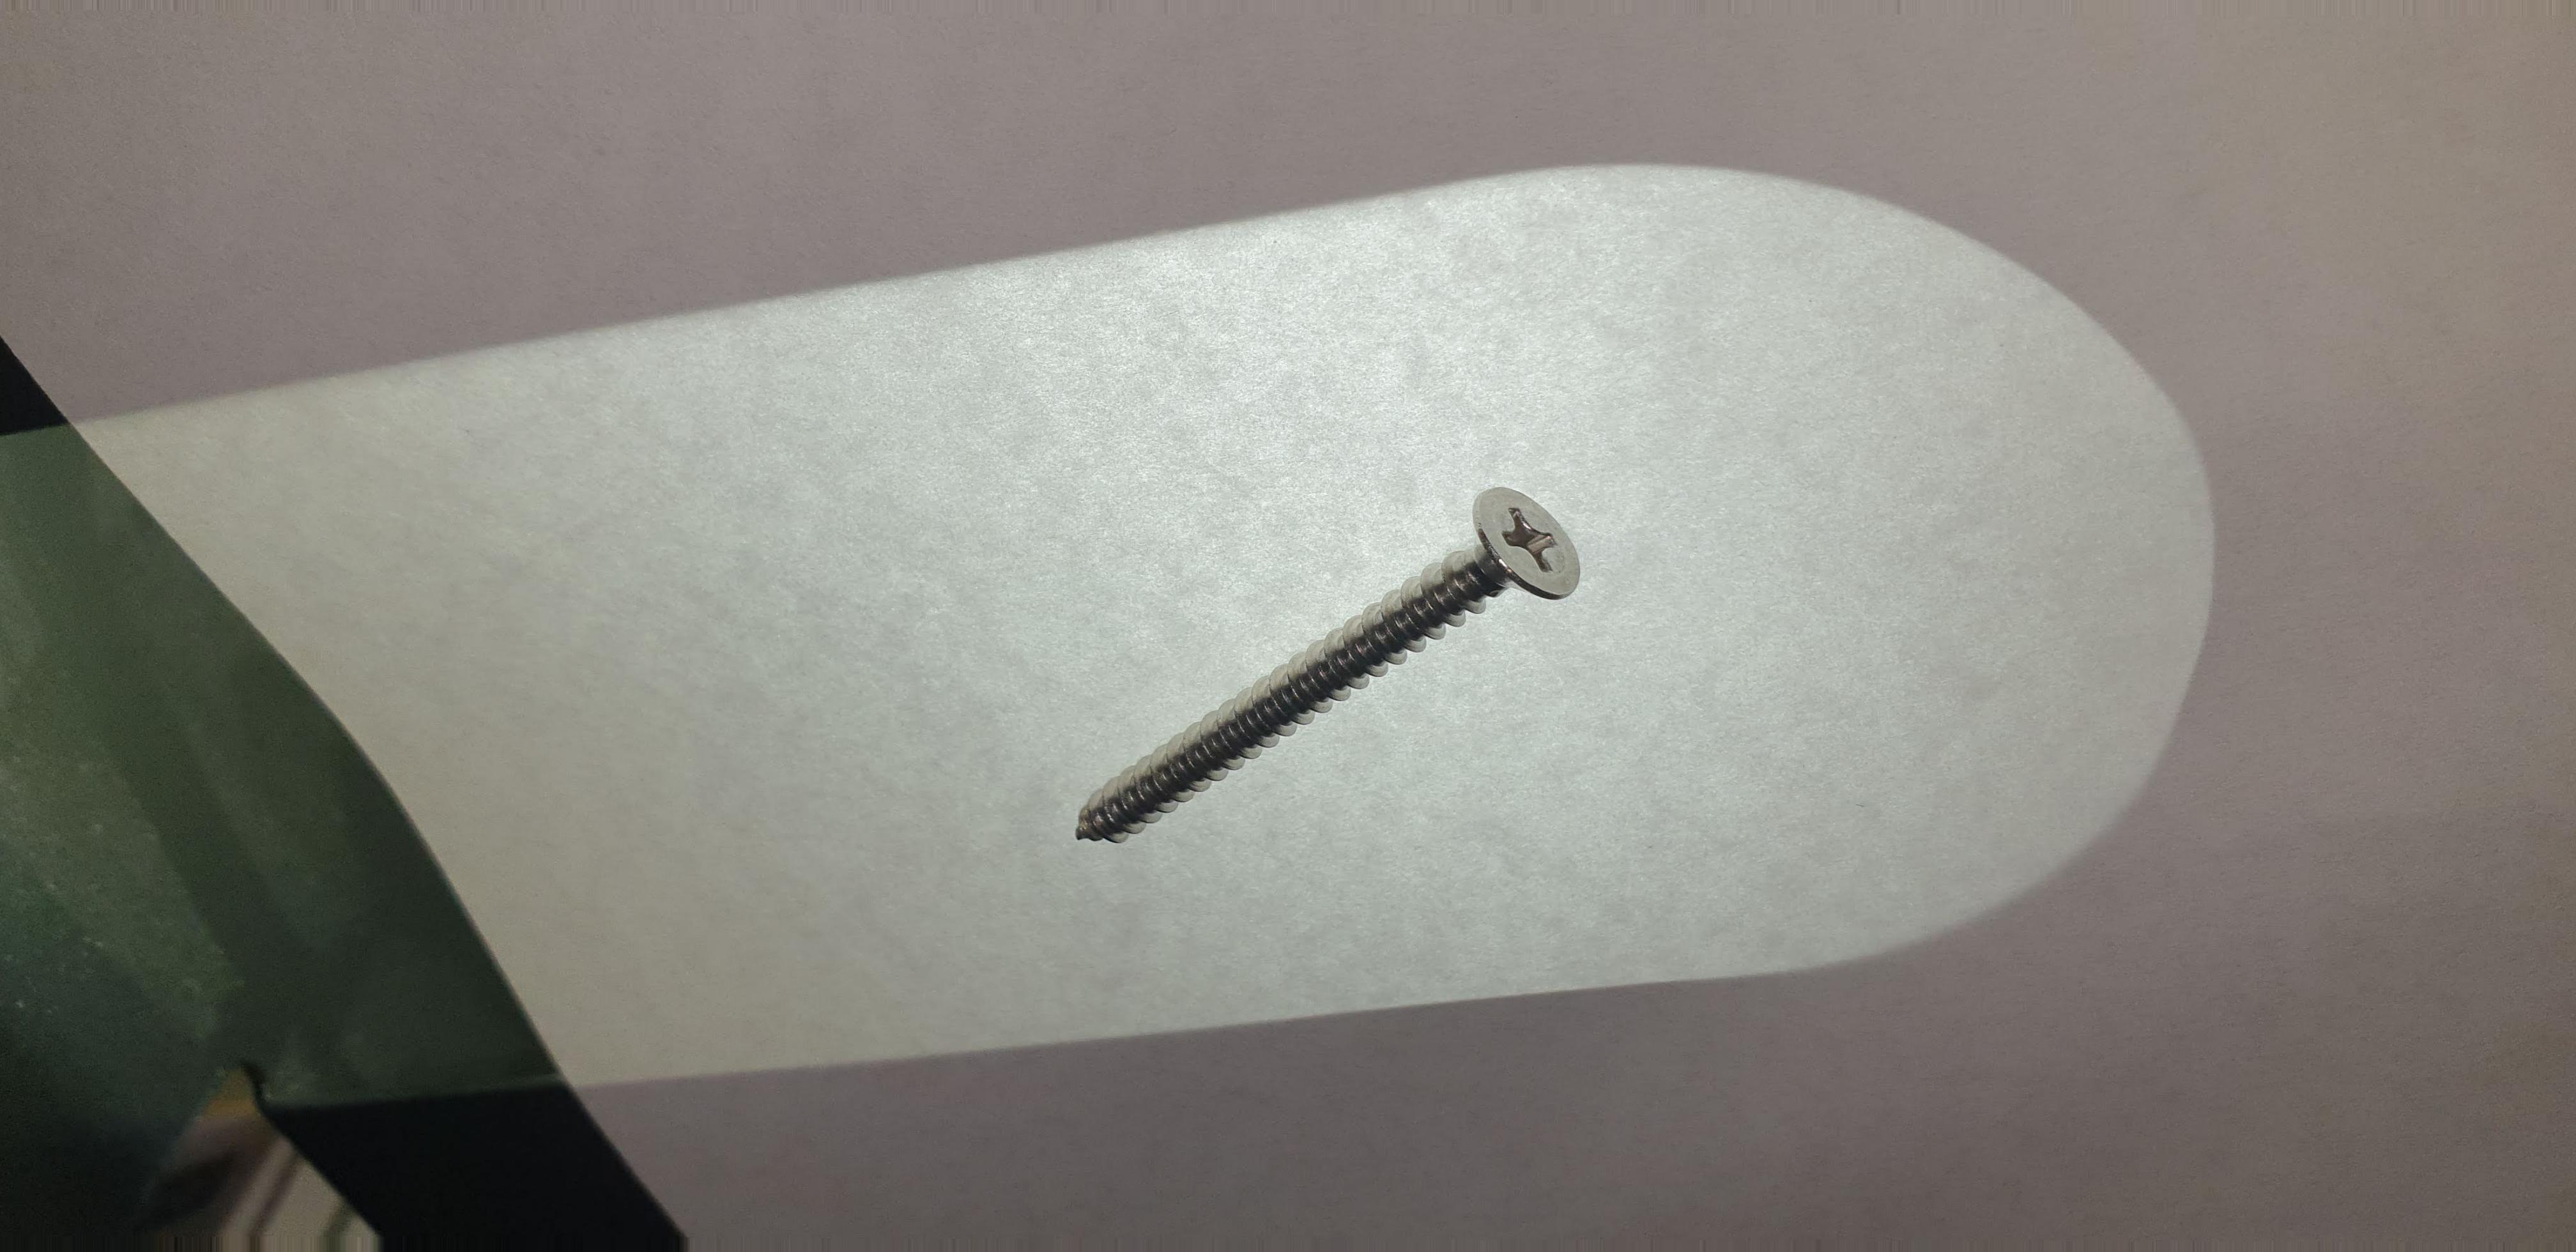fastener: (1004, 439, 1648, 917)
